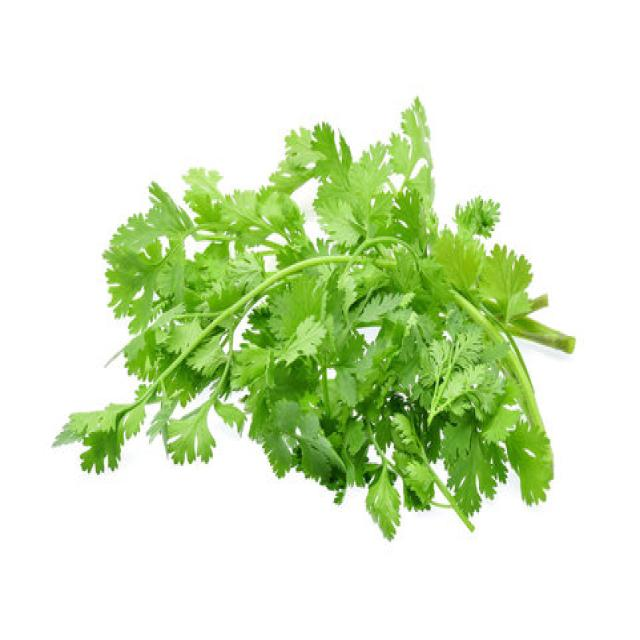Coriander Leaves: (52, 94, 576, 540)
